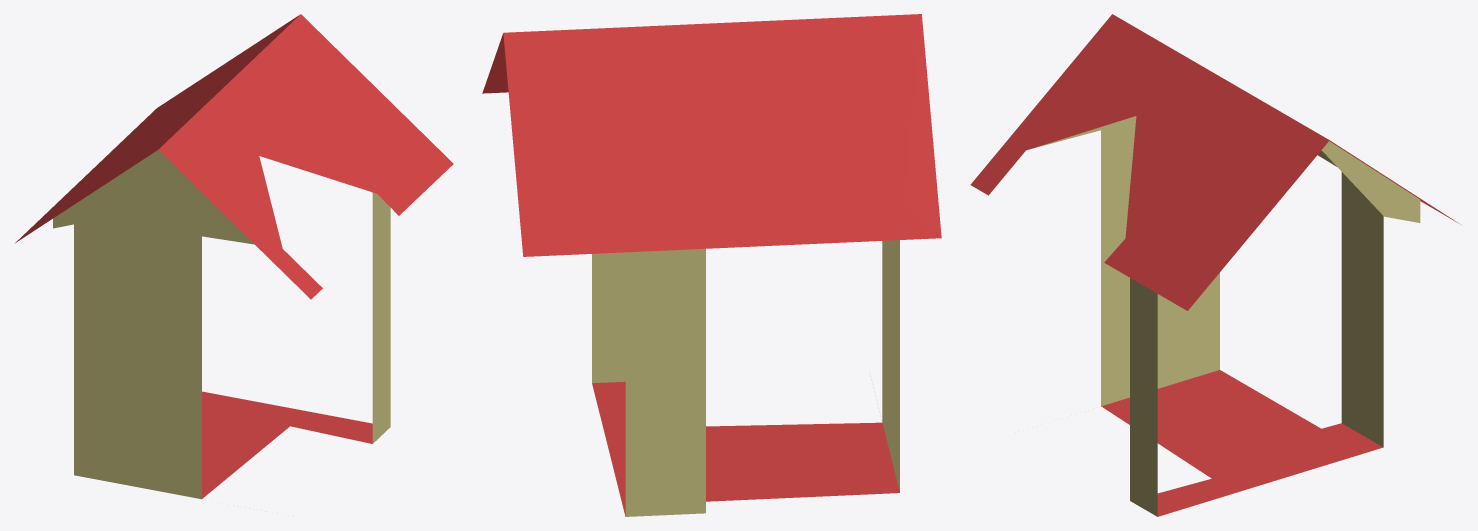
The picture shows the model from 3 angles, left to right: view 1: azimuth 30°, elevation 25°; view 2: azimuth 150°, elevation 25°; view 3: azimuth 270°, elevation 25°; orthographic projection. The views are drawn at different scales.
Bounding box in the file's own units: 16.13 × 15.93 × 13.28.
